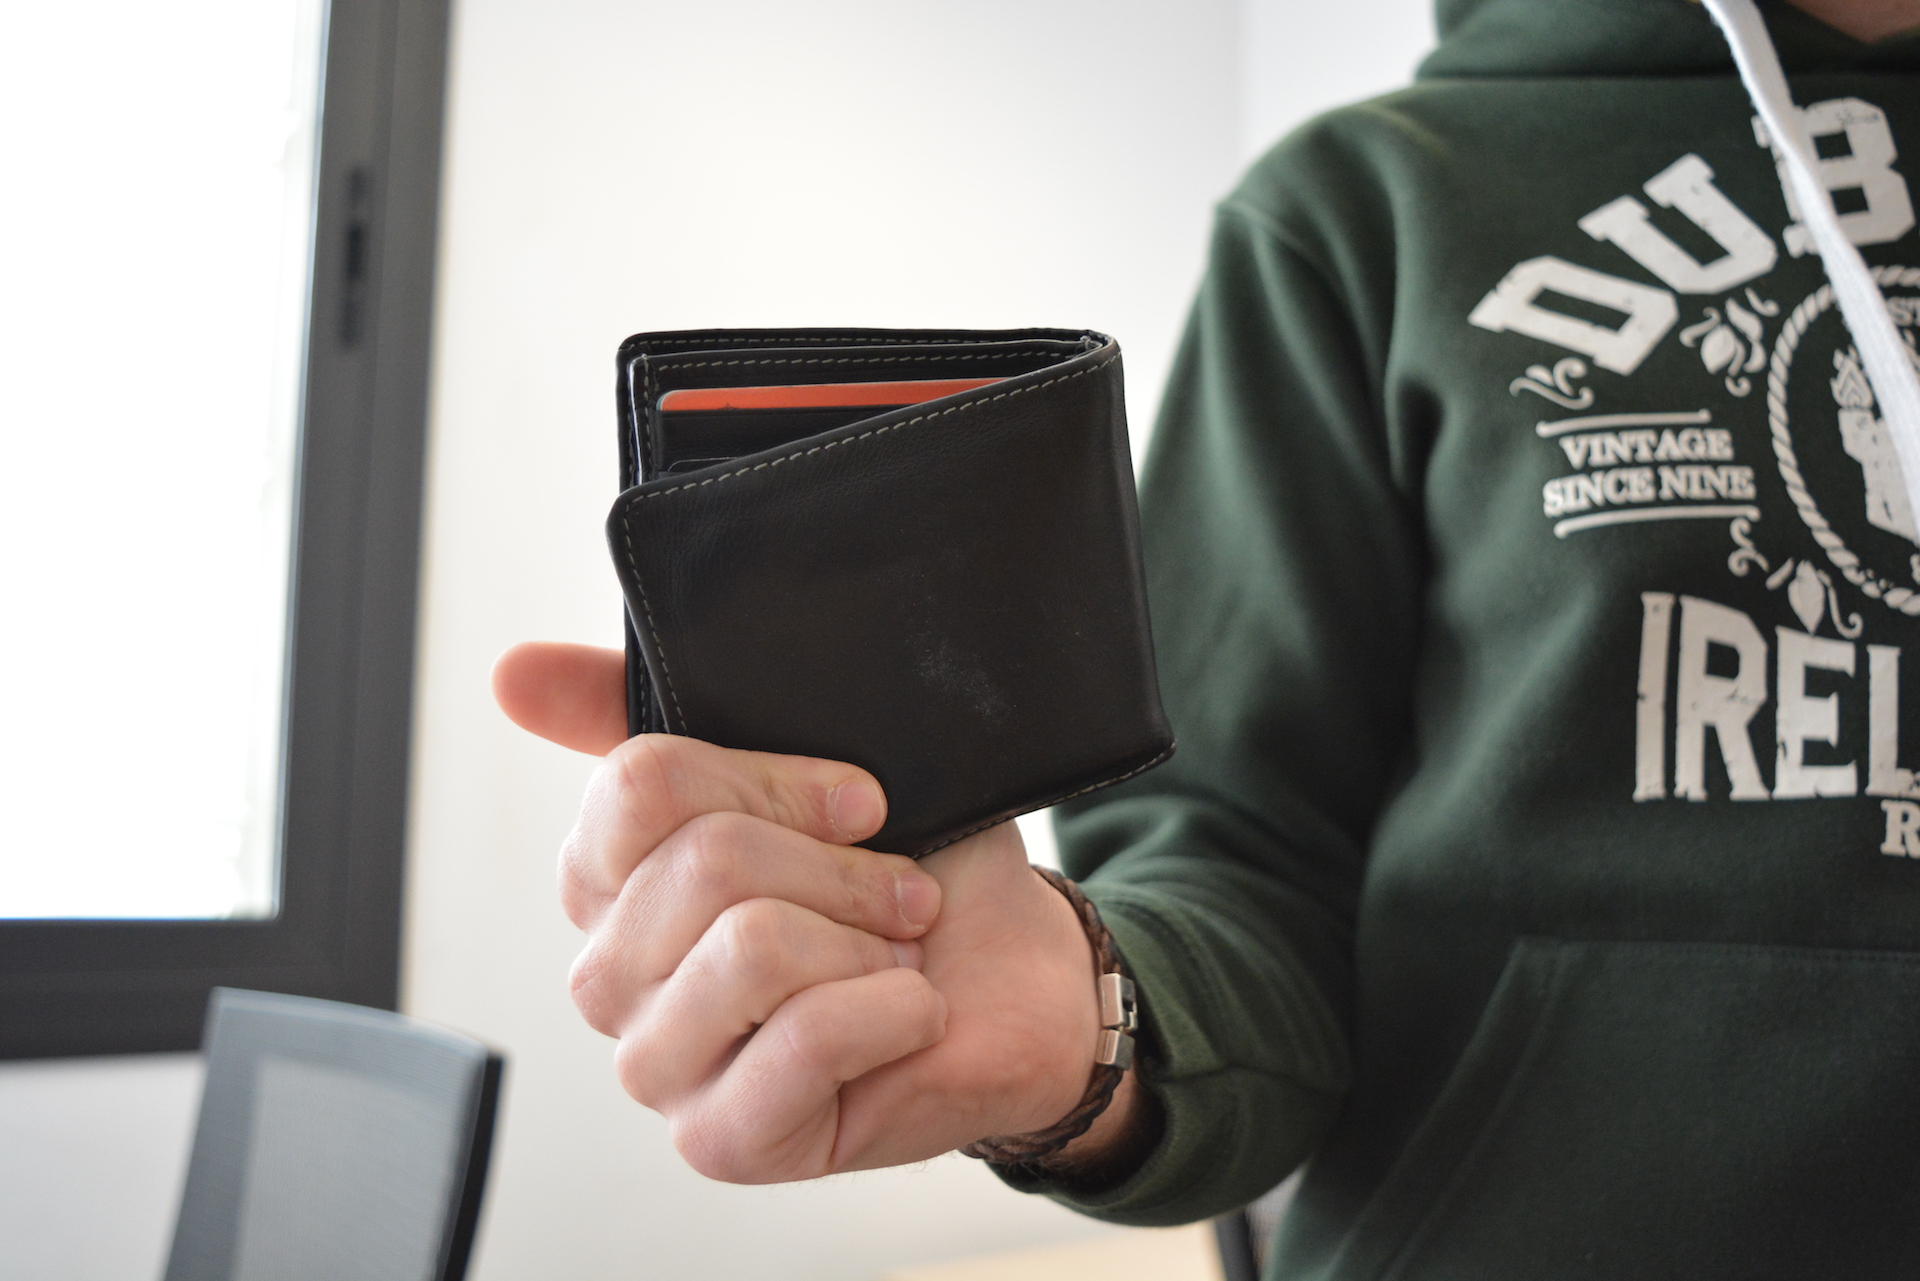monedero: (602, 325, 1182, 868)
